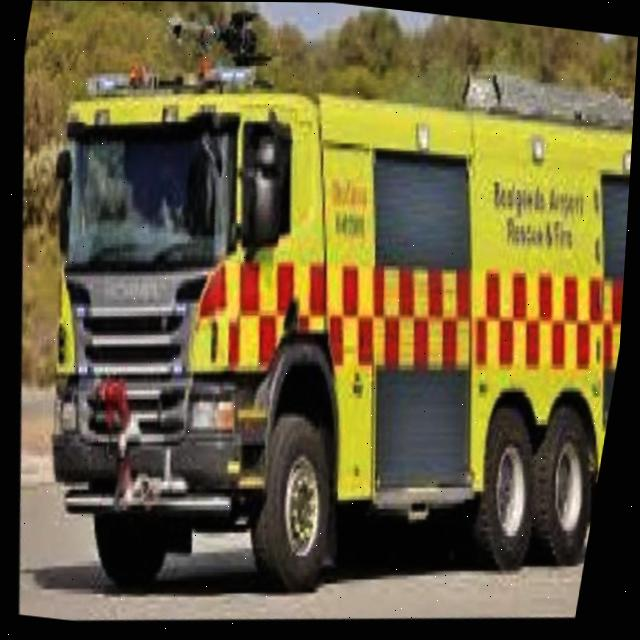emergency: (0, 0, 640, 636)
